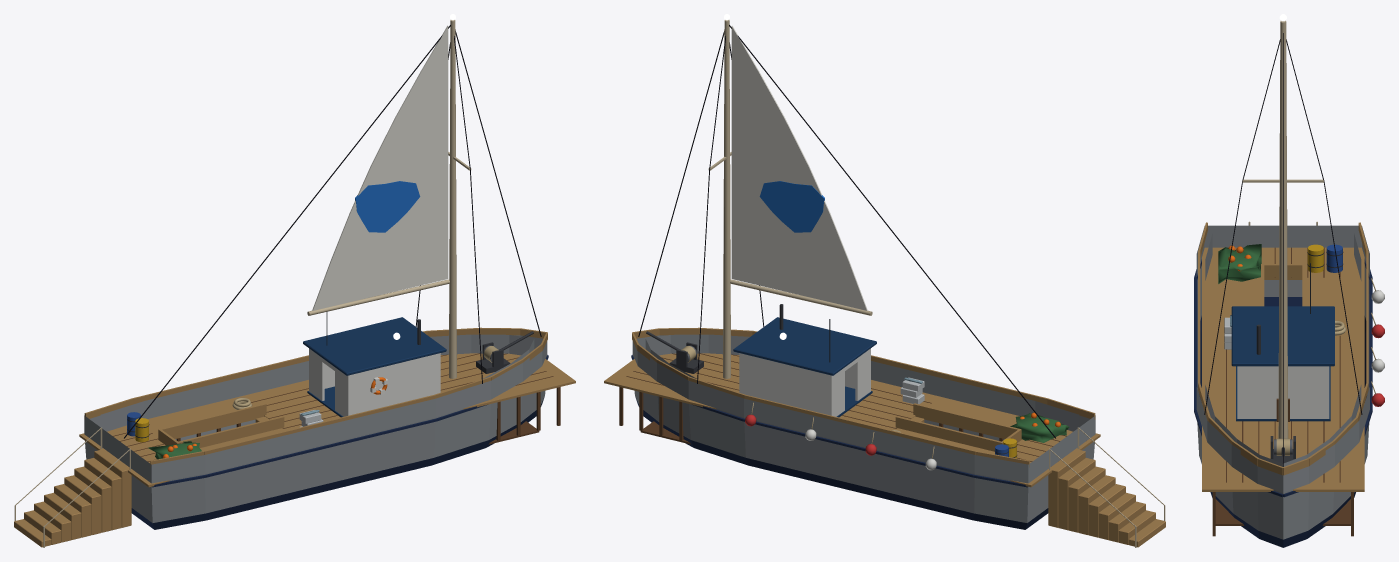
File: tf-boat-p3.glb
The picture shows the model from 3 angles, left to right: view 1: azimuth 30°, elevation 25°; view 2: azimuth 150°, elevation 25°; view 3: azimuth 270°, elevation 25°; orthographic projection. The views are drawn at different scales.
Parts seen in each view (by area): view 1: tf-boat-p3; view 2: tf-boat-p3; view 3: tf-boat-p3.
Boxes of the visible parts, box(x1,y1,x2,y2) form: tf-boat-p3: box(14, 14, 575, 547); tf-boat-p3: box(604, 14, 1165, 547); tf-boat-p3: box(1194, 14, 1384, 547).
Size of the model in its own units: 25.95 by 19.99 by 7.04.
